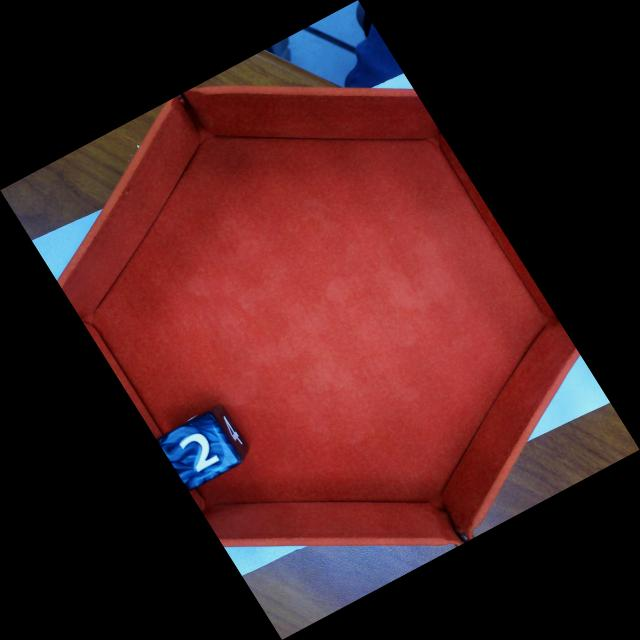dice: (166, 417, 238, 489)
